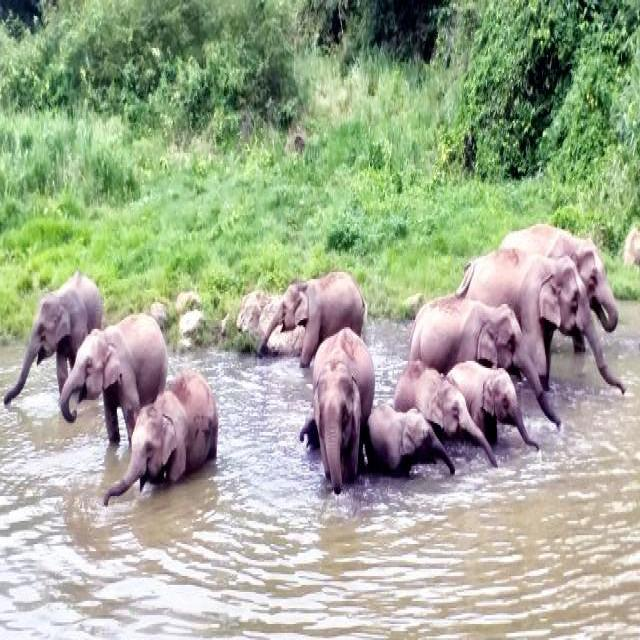Elephant: (464, 185, 633, 406), (411, 280, 569, 448), (99, 358, 228, 524), (390, 341, 537, 472), (0, 256, 90, 440), (295, 322, 379, 512), (64, 292, 159, 450), (257, 251, 372, 363), (370, 395, 439, 500)
